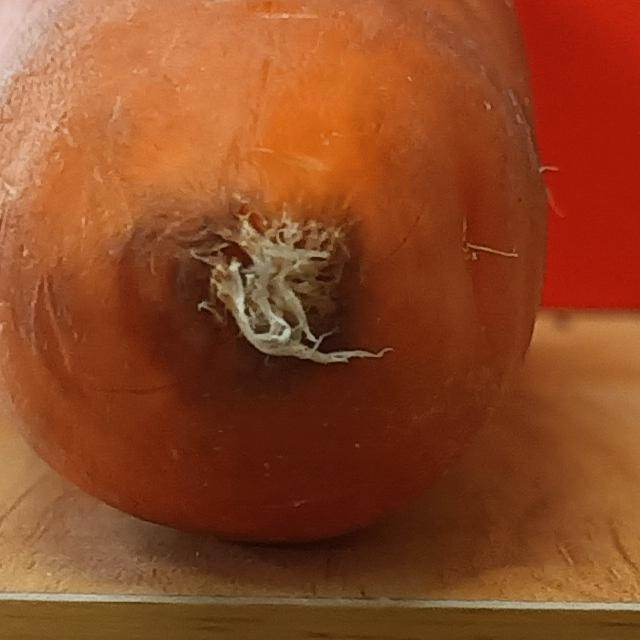carrot: (1, 1, 554, 555)
